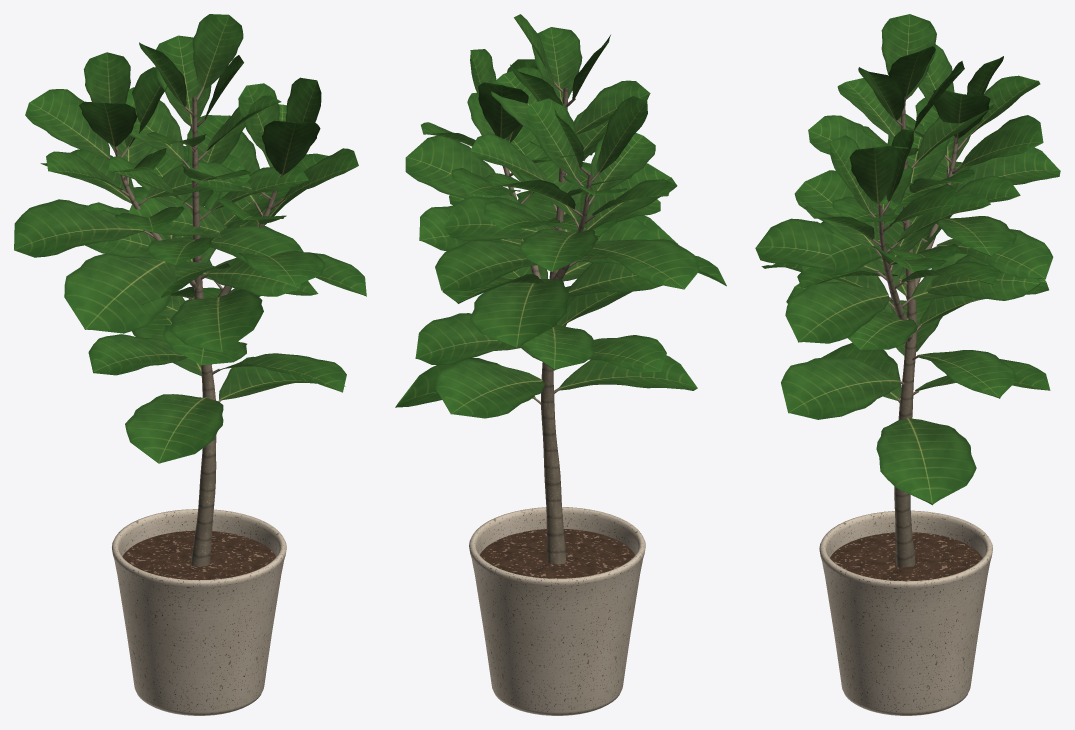
File: buyuk_bitki.glb
3 renders of one model, left to right at view 1: azimuth 30°, elevation 25°; view 2: azimuth 150°, elevation 25°; view 3: azimuth 270°, elevation 25°, orthographic.
Parts seen in each view (by area): view 1: BuyukBitki_FicusLyrata; view 2: BuyukBitki_FicusLyrata; view 3: BuyukBitki_FicusLyrata.
Part boxes in pixels (x1,y1,x2,y2): BuyukBitki_FicusLyrata: (14,14,366,715); BuyukBitki_FicusLyrata: (395,14,726,715); BuyukBitki_FicusLyrata: (755,14,1060,715).
Size of the model in its own units: 0.9219 by 1.93 by 0.8121.
Materials: 4 (4 with a texture image).
